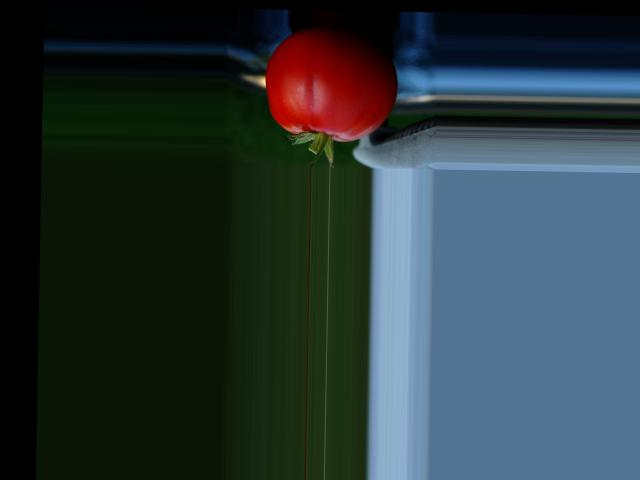tomato: (264, 24, 398, 142)
